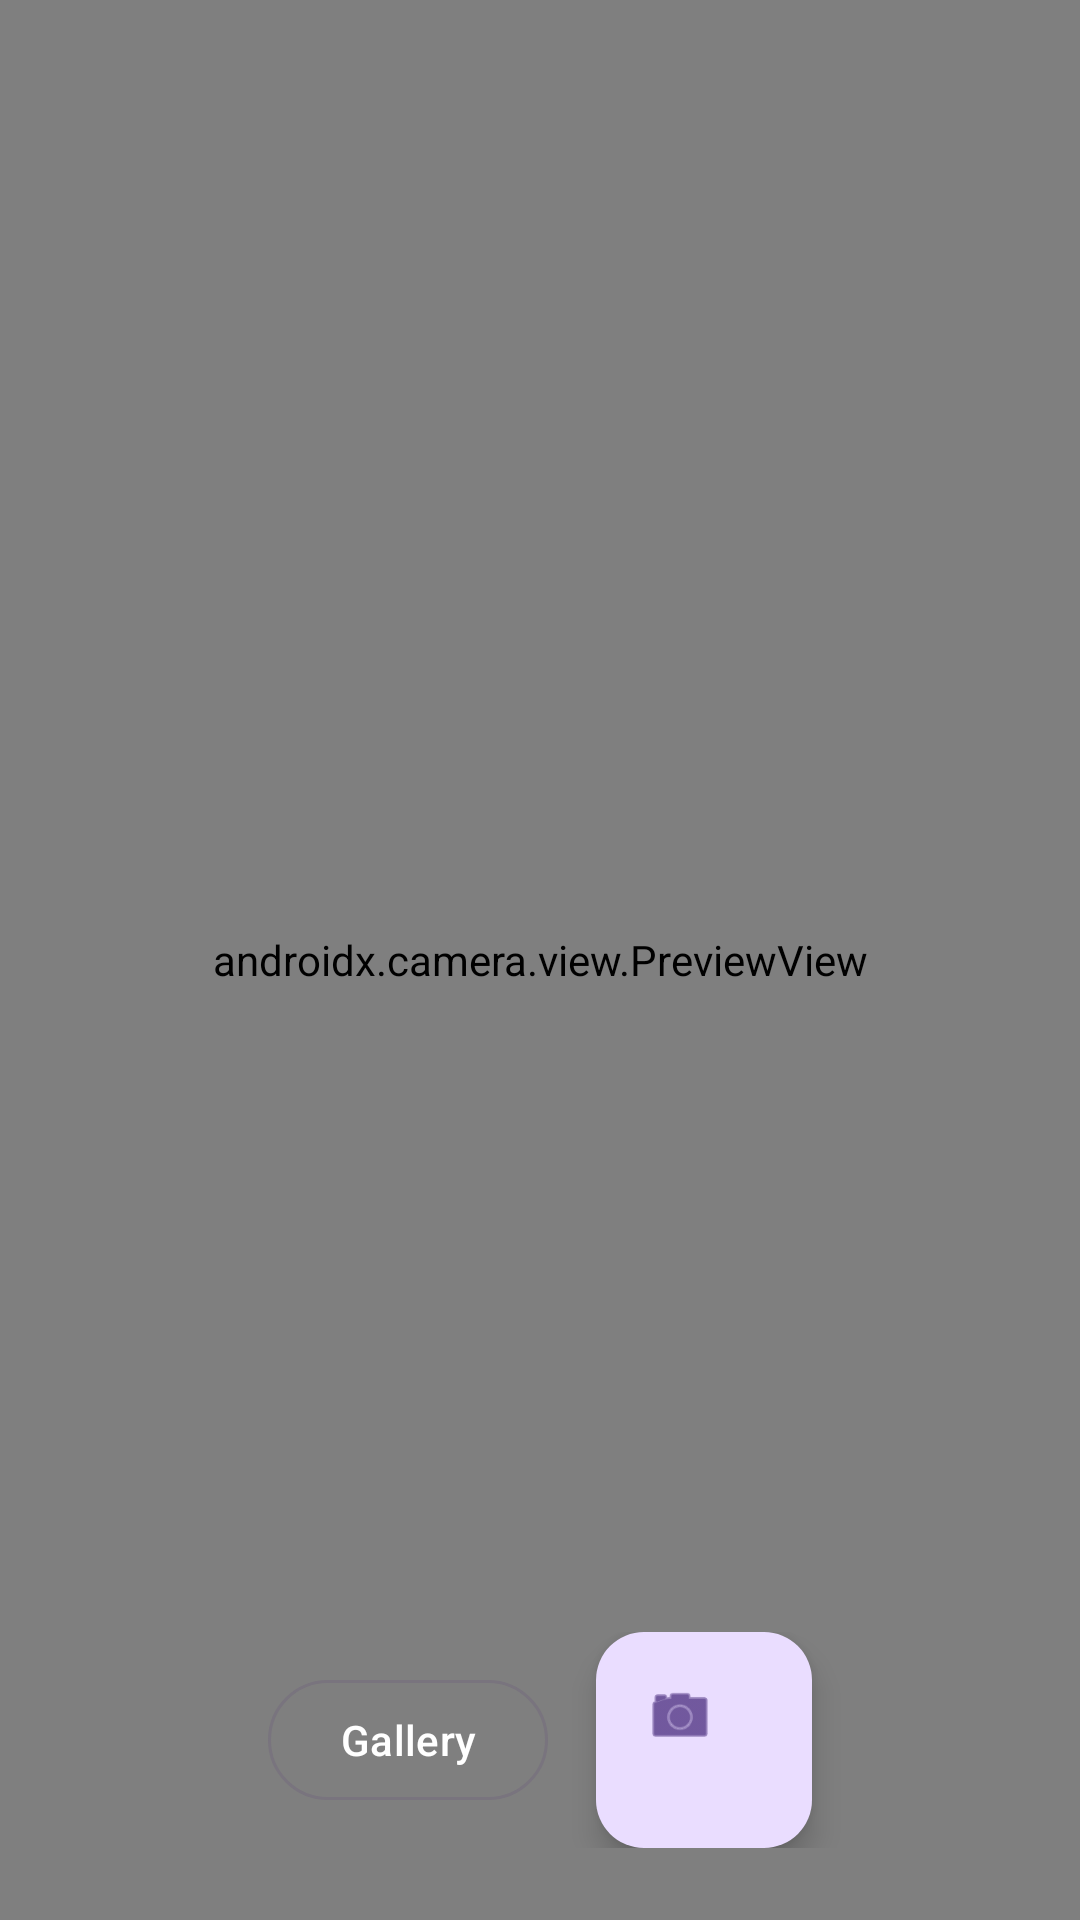

Locate icon controls on the screen. Image size 1080x1920, boxes as (x1, y1, x2, y2).
Capture photo: (596, 1632, 812, 1848)
